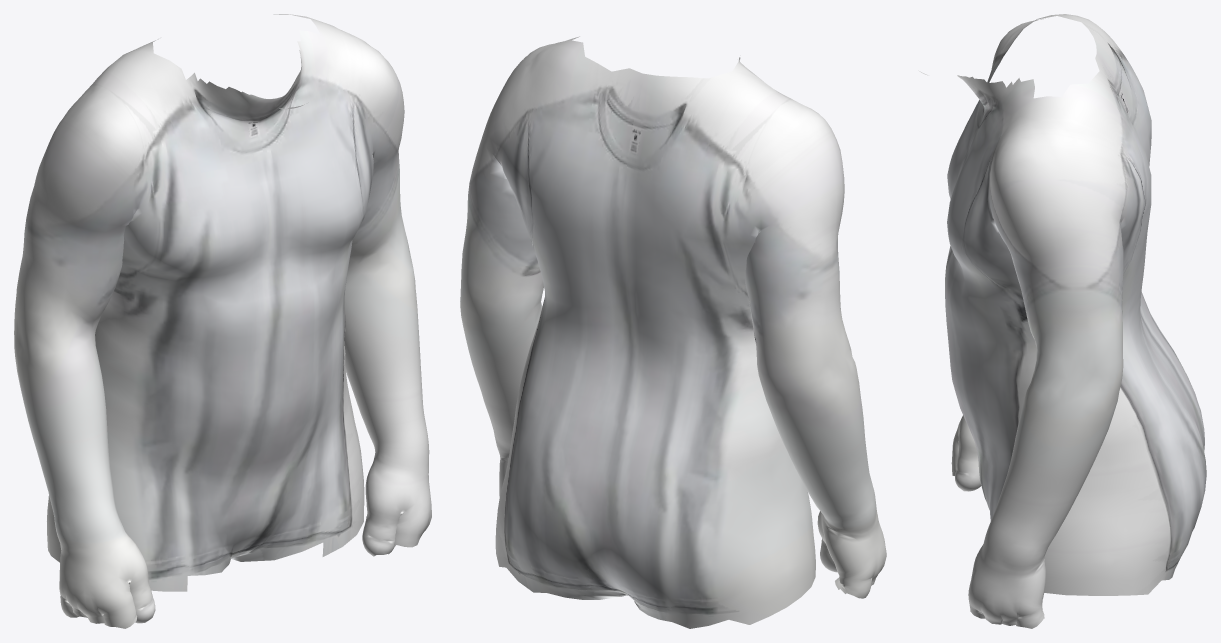
File: prenda_fit_nueva.glb
3 views of the same model, side by side, from view 1: azimuth 30°, elevation 25°; view 2: azimuth 150°, elevation 25°; view 3: azimuth 270°, elevation 25° (orthographic). The views are drawn at different scales.
Visible parts, largest first — view 1: fitted_garment; view 2: fitted_garment; view 3: fitted_garment.
Part boxes in pixels (box(x1,y1,x2,y2)): fitted_garment: box(14, 14, 431, 628); fitted_garment: box(460, 36, 886, 628); fitted_garment: box(918, 14, 1206, 628).
Size of the model in its own units: 0.5641 by 0.7347 by 0.3856.
1 material, 1 textured.
